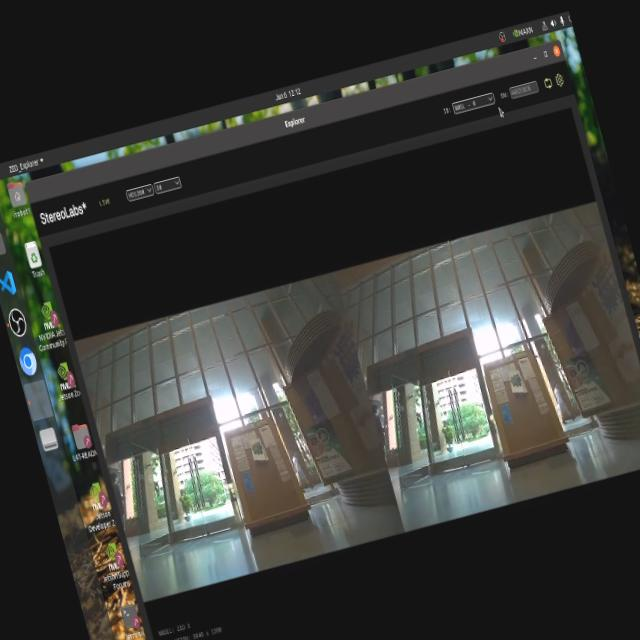green: (502, 364, 525, 394), (244, 436, 268, 464)
